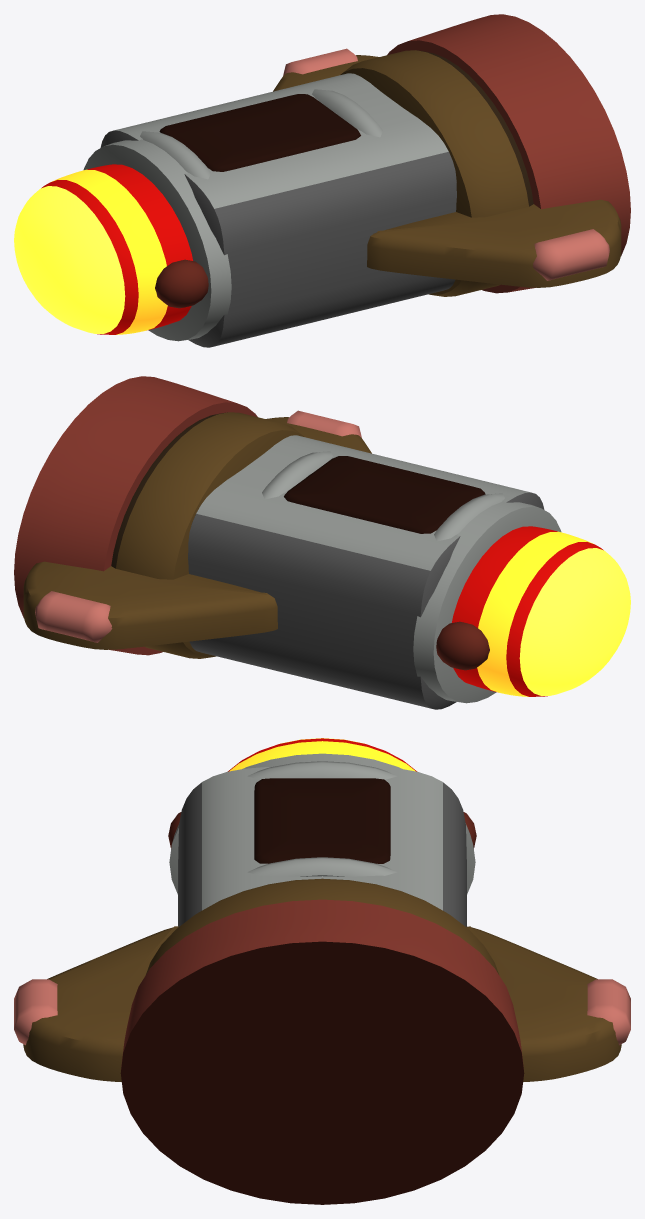
File: pink_torpedo_front.glb
3 views of the same model, one above another, from view 1: azimuth 30°, elevation 25°; view 2: azimuth 150°, elevation 25°; view 3: azimuth 270°, elevation 25° (orthographic). The views are drawn at different scales.
Visible parts, largest first — view 1: receiver.001, muzzle.001, body.001, collar.001, fin-1.001, window_frame.001, receiver_ring.001, fin_tip-1.001, knob-1.001, clamp0.001, clamp1.001, fin_tip1.001 (+1 smaller); view 2: receiver.001, muzzle.001, body.001, collar.001, fin1.001, window_frame.001, receiver_ring.001, fin_tip1.001, knob1.001, clamp0.001, clamp1.001, fin_tip-1.001 (+1 smaller); view 3: body.001, receiver.001, window_frame.001, fin1.001, fin-1.001, collar.001, muzzle.001, clamp0.001, clamp1.001, fin_tip1.001, fin_tip-1.001, receiver_ring.001.
Part boxes in pixels (bbox=[...]): receiver.001: bbox=[100, 73, 456, 347]; muzzle.001: bbox=[14, 164, 192, 334]; body.001: bbox=[387, 14, 630, 293]; collar.001: bbox=[340, 50, 533, 296]; fin-1.001: bbox=[367, 199, 621, 287]; window_frame.001: bbox=[159, 94, 360, 171]; receiver_ring.001: bbox=[83, 139, 231, 341]; fin_tip-1.001: bbox=[532, 229, 609, 280]; knob-1.001: bbox=[155, 259, 208, 308]; clamp0.001: bbox=[312, 89, 382, 137]; clamp1.001: bbox=[140, 131, 210, 179]; fin_tip1.001: bbox=[283, 48, 357, 75]; receiver.001: bbox=[188, 435, 544, 709]; muzzle.001: bbox=[452, 526, 630, 696]; body.001: bbox=[14, 376, 257, 655]; collar.001: bbox=[111, 412, 304, 658]; fin1.001: bbox=[23, 561, 277, 649]; window_frame.001: bbox=[284, 456, 485, 533]; receiver_ring.001: bbox=[413, 501, 561, 703]; fin_tip1.001: bbox=[35, 591, 112, 642]; knob1.001: bbox=[436, 621, 489, 670]; clamp0.001: bbox=[262, 451, 332, 499]; clamp1.001: bbox=[434, 493, 504, 541]; fin_tip-1.001: bbox=[287, 410, 361, 437]; body.001: bbox=[120, 899, 524, 1204]; receiver.001: bbox=[178, 767, 466, 926]; window_frame.001: bbox=[254, 778, 390, 863]; fin1.001: bbox=[466, 926, 621, 1081]; fin-1.001: bbox=[23, 926, 178, 1081]; collar.001: bbox=[146, 878, 498, 974]; muzzle.001: bbox=[228, 738, 416, 771]; clamp0.001: bbox=[247, 857, 397, 876]; clamp1.001: bbox=[247, 761, 397, 779]; fin_tip1.001: bbox=[587, 979, 630, 1045]; fin_tip-1.001: bbox=[14, 979, 57, 1045]; receiver_ring.001: bbox=[169, 753, 475, 894].
Size of the model in its own units: 23.72 by 10.36 by 22.
